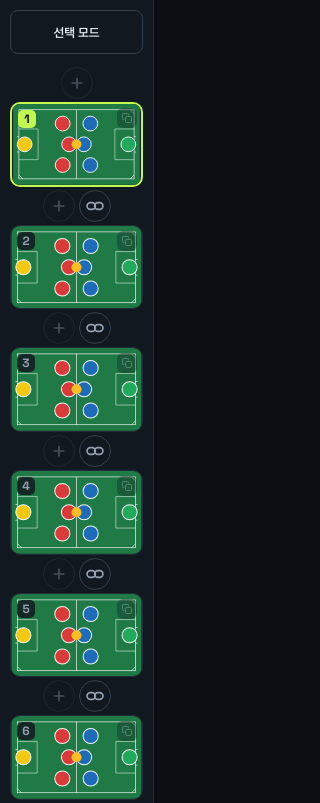
Scenario: 우클릭 메뉴 — 가드 › 정원(60장)이면 복제 둘이 잠긴다 — [선택]·[삭제]는 열려 있다(대조군)
Right-click the button "1" at (76, 144), box [10,102,143,187]
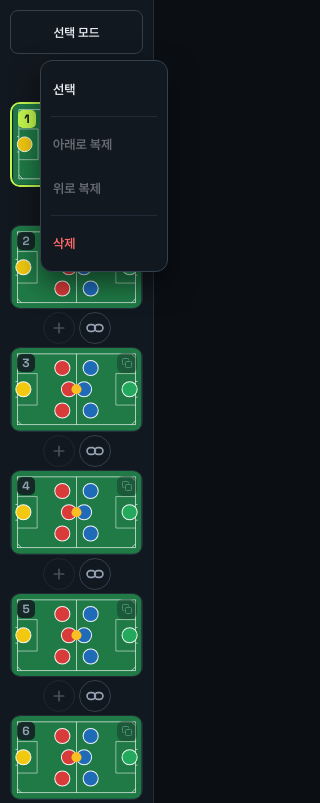
Now the menu item "아래로 복제" is disabled, box [41,122,167,166]
Now the menu item "위로 복제" is disabled, box [41,166,167,210]
Now the menu item "선택" is enabled, box [41,67,167,111]
